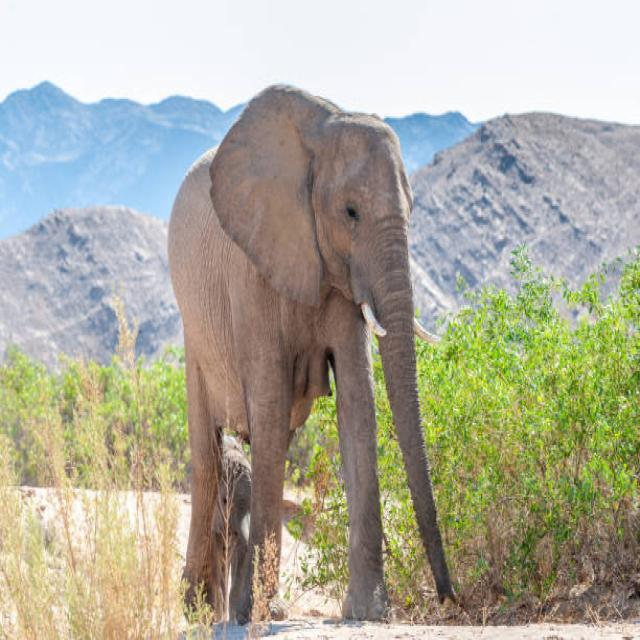Elephant: (155, 73, 472, 637)
